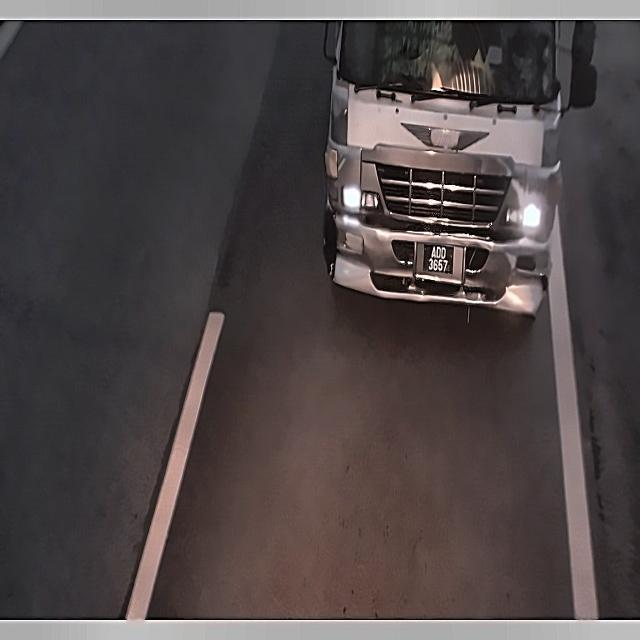car: (421, 243, 454, 286)
